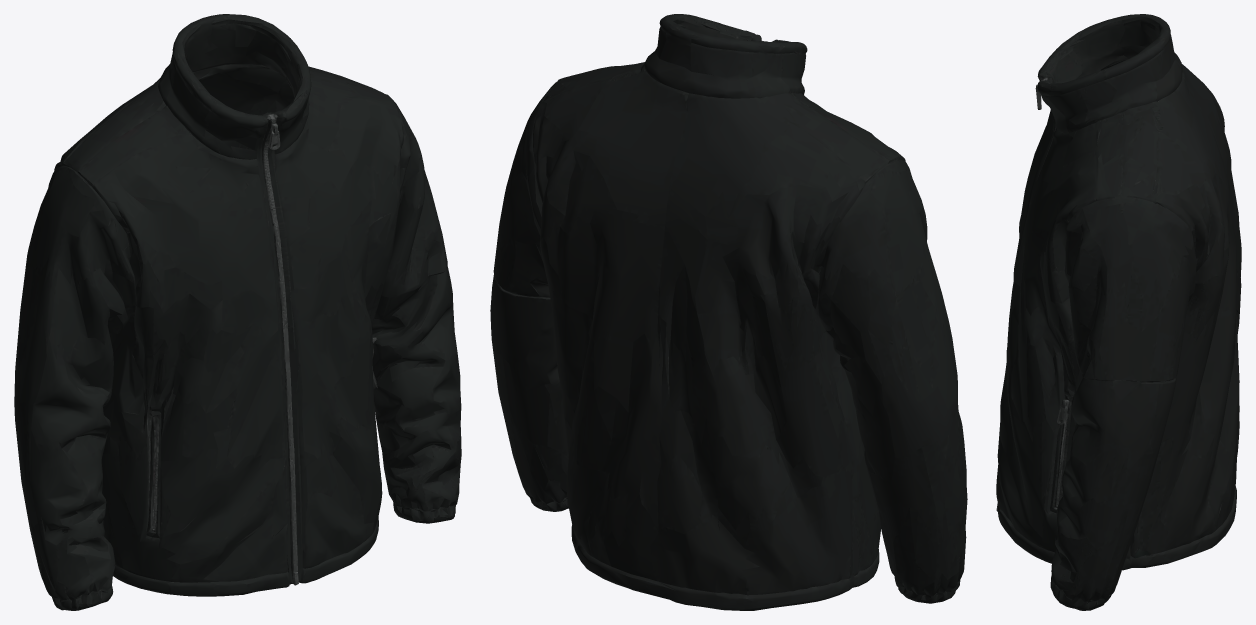
The model's file is DEMO-P007.glb.
3 renders of one model, left to right at view 1: azimuth 30°, elevation 25°; view 2: azimuth 150°, elevation 25°; view 3: azimuth 270°, elevation 25°, orthographic. The views are drawn at different scales.
Bounding box in the file's own units: 1.66 × 1.9 × 0.8582.
1 material, 1 textured.
